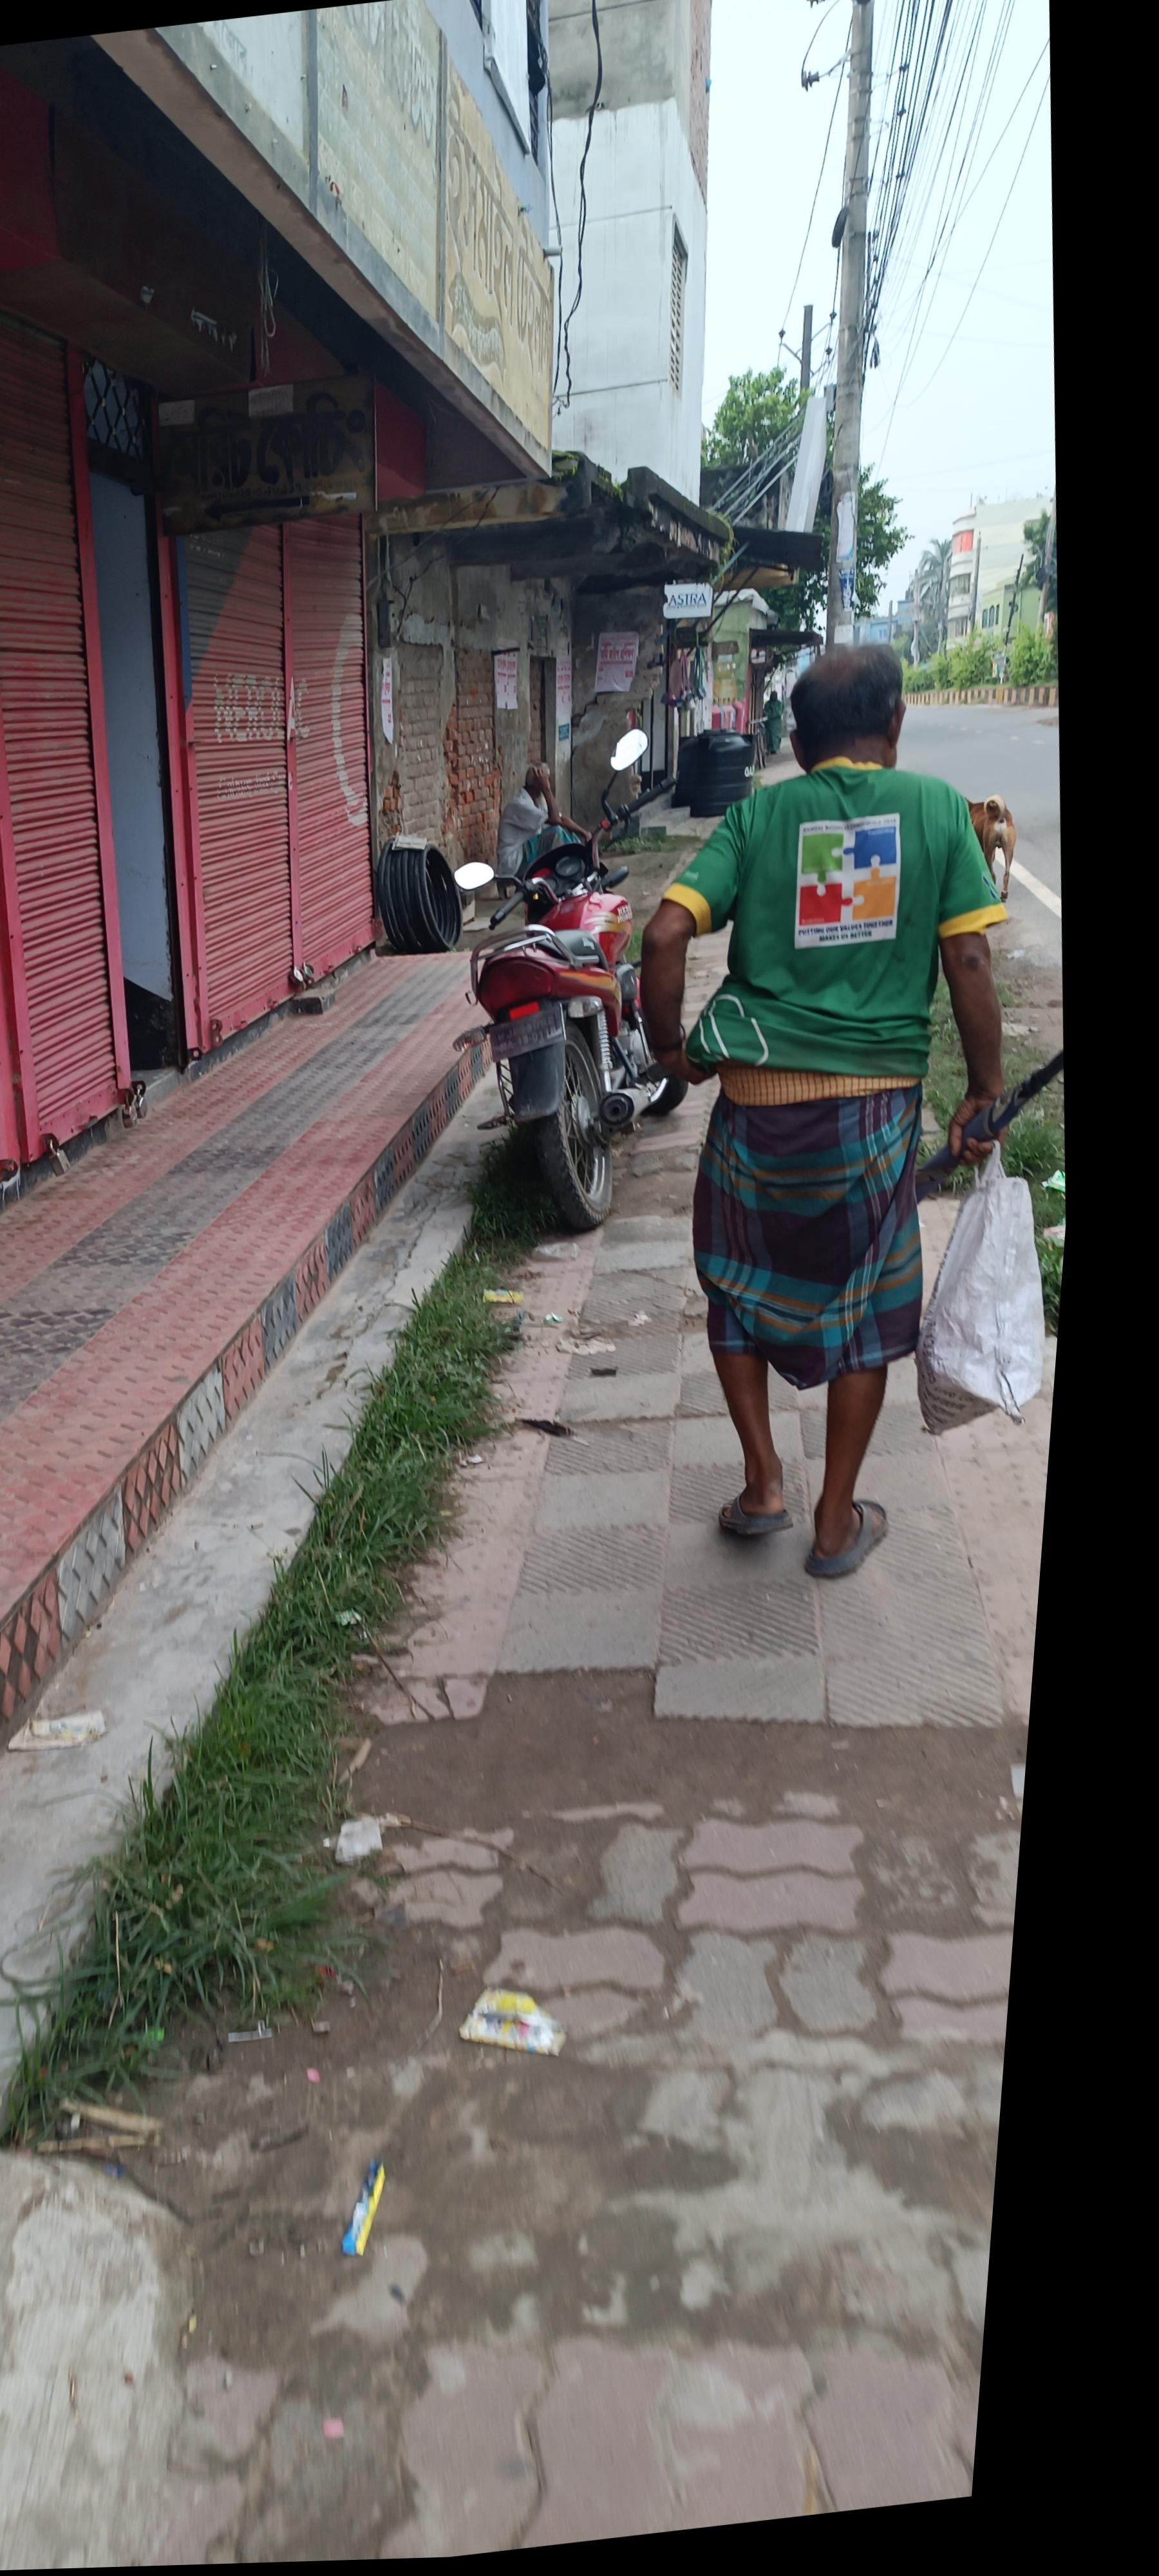Dog: (806, 1194, 980, 1498), (376, 2037, 496, 2126)
Downstairs: (579, 784, 665, 881)
Fallen-tree: (317, 879, 604, 1298)
Garbage-bin: (483, 685, 992, 1661)
Pothole: (33, 805, 1110, 2576)
Stuck-water: (0, 996, 474, 1929)
